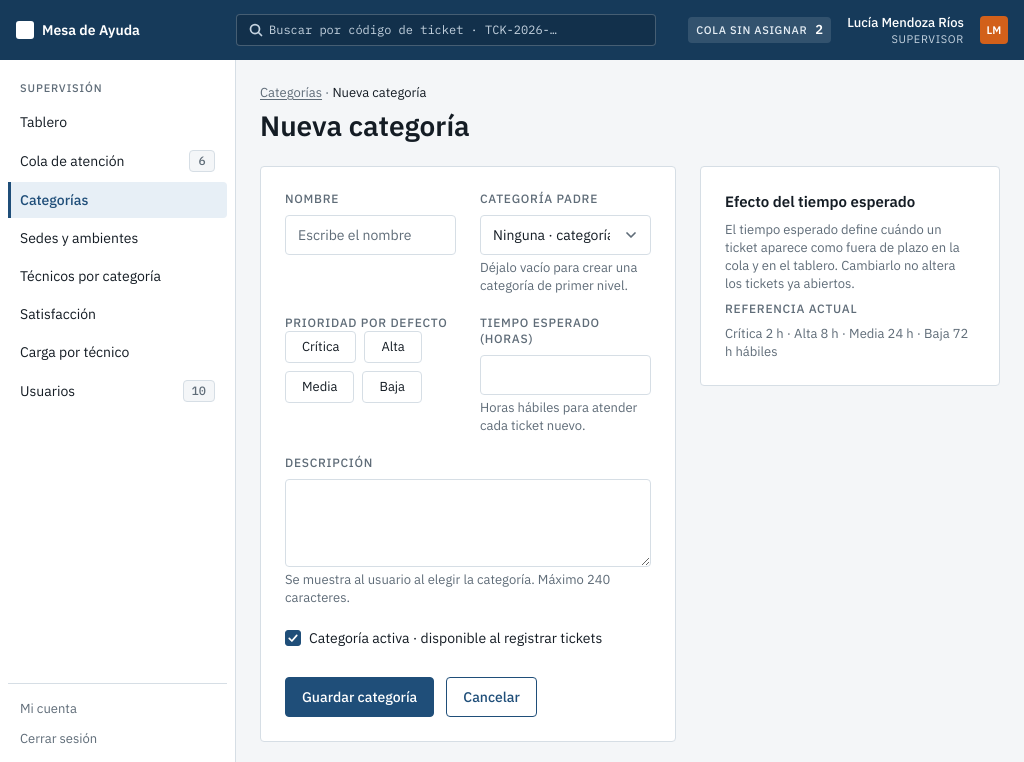
Scenario: CategoriaFormPage · nueva › sin cambios, cancelar vuelve al catálogo sin preguntar
Expected: the heading "Nueva categoría" is shown, [260, 110, 470, 142]
Expected: the text "Cola sin asignar" is shown, [696, 22, 807, 38]
Click the button "Cancelar" at (492, 697), box [446, 677, 537, 717]
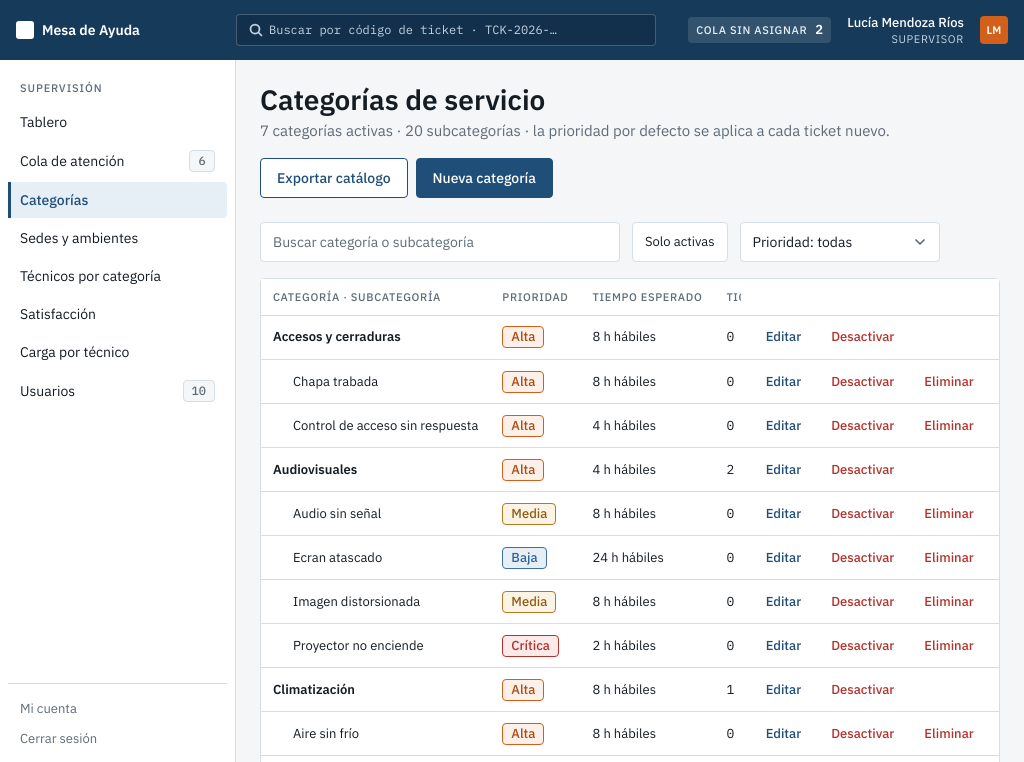
Now the heading "Categorías de servicio" is shown, box [260, 81, 545, 118]
